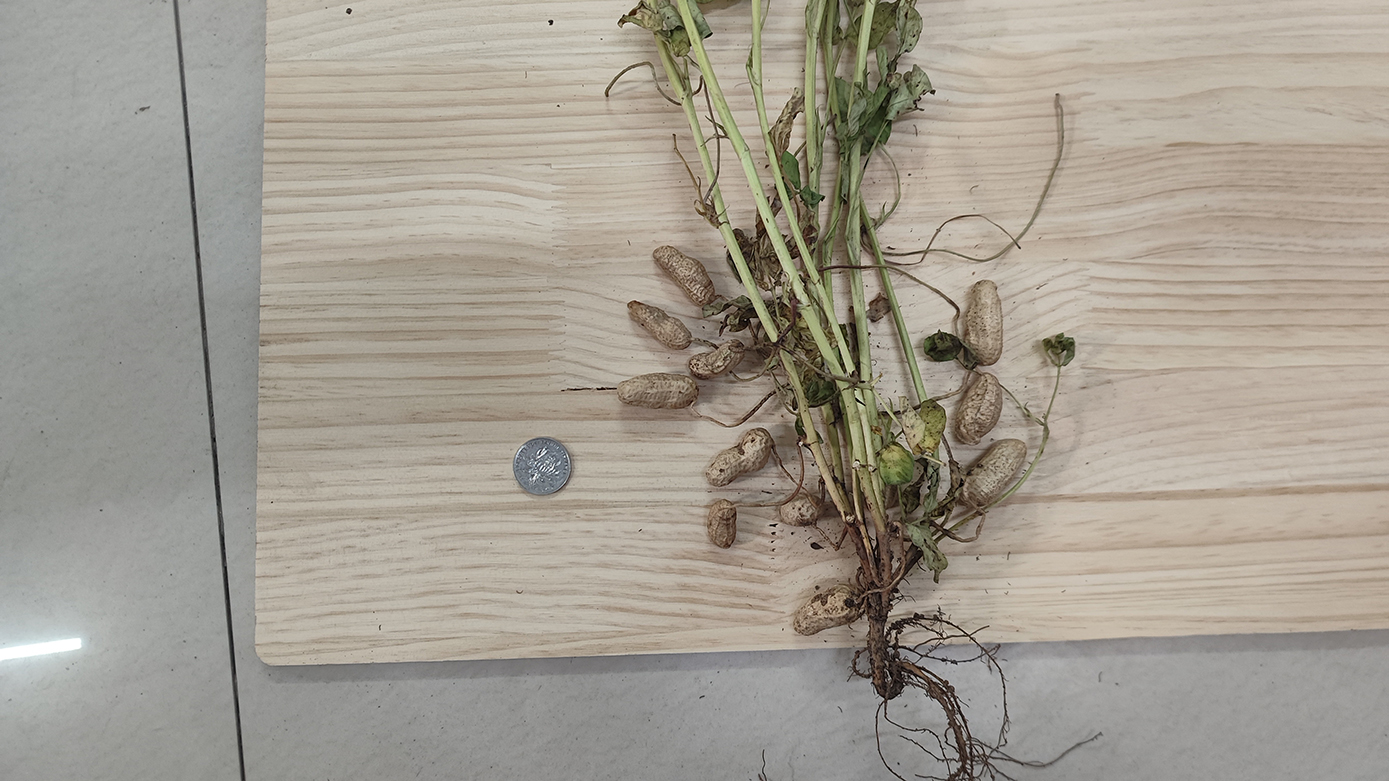h: (960, 438, 1028, 508), (652, 245, 716, 306), (707, 429, 774, 486), (793, 584, 867, 634), (963, 280, 1004, 367), (953, 372, 1003, 443), (626, 300, 692, 351), (618, 373, 700, 410), (690, 340, 747, 379), (780, 494, 825, 530), (706, 500, 738, 547)
